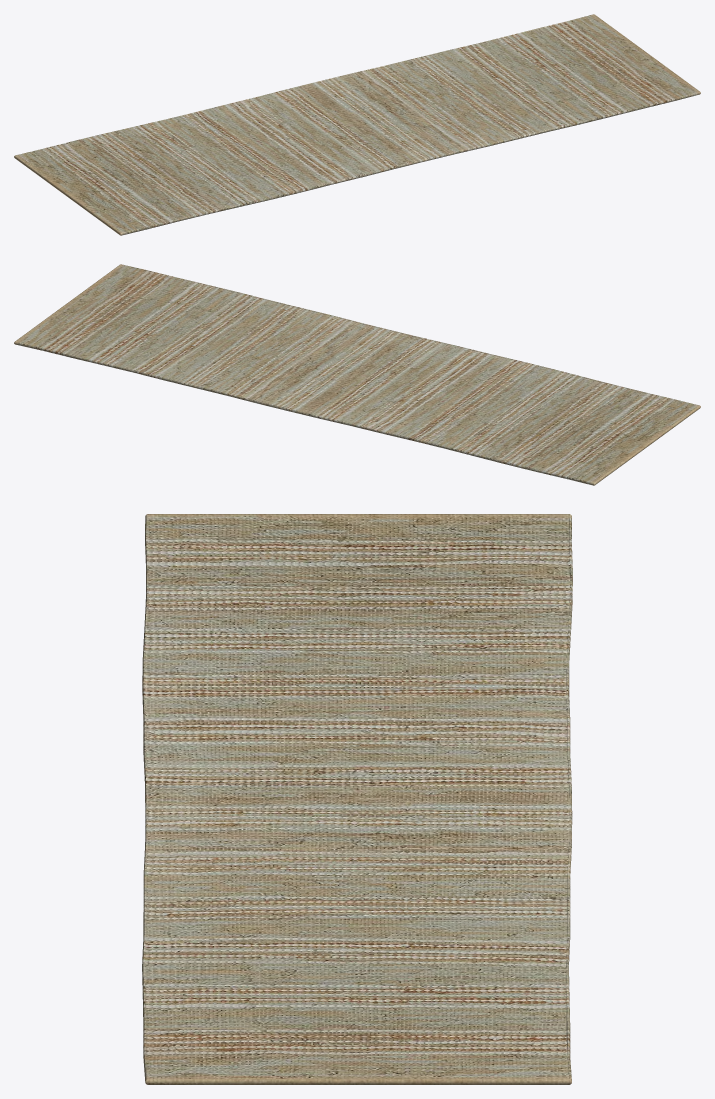
The model's file is abo-B07B4SMHQ1.glb.
3 renders of one model, top to bottom at view 1: azimuth 30°, elevation 25°; view 2: azimuth 150°, elevation 25°; view 3: azimuth 270°, elevation 25°, orthographic. The views are drawn at different scales.
Bounding box in the file's own units: 2.44 × 0.00997 × 0.7831.
1 material, 1 textured.
